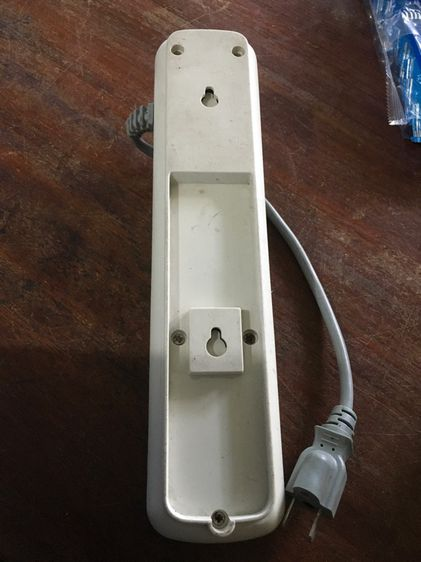Three_eye_plug: (140, 19, 297, 549)
